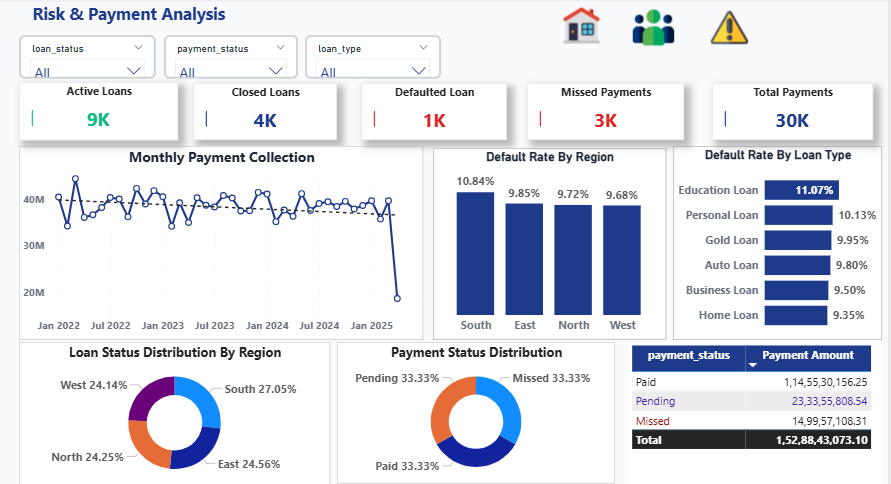

This screenshot's page, from the dashboard's own definition file:
{"tool":"powerbi","page":{"name":"Risk & Payments Analysis","canvas":[1280,720],"ordinal":2},"visuals":[{"type":"textbox","box":[41.8,0,717.1,57.6],"z":0},{"type":"cardVisual","title":"Closed Loans","fields":{"Data":["Temp.Closed Loans"]},"box":[277.9,122.4,207.4,82.1],"z":1000},{"type":"lineChart","title":"Monthly Payment Collection","fields":{"Y":["Sum(payments.payment_amount)"],"Category":["payments.payment_date.Variation.Date Hierarchy.Year","payments.payment_date.Variation.Date Hierarchy.Month"]},"box":[27.4,213.1,581.8,279.4],"z":2000},{"type":"donutChart","title":"Loan Status Distribution By Region","fields":{"Y":["Temp.Default Rate %"],"Category":["branches.region"]},"box":[27.4,495.4,447.8,207.4],"z":3000},{"type":"actionButton","box":[806.4,8.6,79.2,61.9],"z":4000},{"type":"actionButton","box":[907.2,8.6,77.8,67.7],"z":5000},{"type":"actionButton","box":[1019.5,11.5,67.7,61.9],"z":6000},{"type":"cardVisual","title":"Active Loans","fields":{"Data":["Temp.Active Loans"]},"box":[27.4,121,229,83.5],"z":7000},{"type":"cardVisual","title":"Defaulted Loan","fields":{"Data":["Temp.Defaulted Loans"]},"box":[519.8,122.4,210.2,82.1],"z":8000},{"type":"barChart","title":"Default Rate By Loan Type","fields":{"Category":["loan_types.loan_type"],"Y":["Temp.Default Rate %"]},"box":[969.1,213.1,301,279.4],"z":9000},{"type":"slicer","fields":{"Values":["loan_details.loan_status"]},"box":[27.4,53.3,197.3,63.4],"z":10000},{"type":"slicer","fields":{"Values":["payments.payment_status"]},"box":[236.2,53.3,193,63.4],"z":11000},{"type":"slicer","fields":{"Values":["loan_types.loan_type"]},"box":[439.2,53.3,195.8,63.4],"z":12000},{"type":"cardVisual","title":"Missed Payments","fields":{"Data":["Temp.Missed Payments"]},"box":[711.4,231.8,193,82.1],"z":13000},{"type":"donutChart","title":"Payment Status Distribution","fields":{"Category":["payments.payment_status"],"Y":["Temp.Total Customers"]},"box":[485.3,495.4,400.3,204.5],"z":14000},{"type":"columnChart","title":"Default Rate By Region","fields":{"Category":["branches.region"],"Y":["Temp.Default Rate %"]},"box":[623.5,216,335.5,276.5],"z":15000},{"type":"tableEx","fields":{"Values":["payments.payment_status","Sum(payments.payment_amount)"]},"box":[904.3,495.4,365.8,207.4],"z":16000},{"type":"cardVisual","title":"Missed Payments","fields":{"Data":["Temp.Missed Payments"]},"box":[758.9,122.4,226.1,82.1],"z":17000},{"type":"cardVisual","title":"Total Payments","fields":{"Data":["Temp.Total Payments"]},"box":[1025.3,122.4,231.8,82.1],"z":18000}]}

Visuals, with their boxes on the page's 1280x720 design canvas (x1, y1, x2, y2). These are canvas units, not pixel positions in the 891x484 screenshot, which may show the page scaled, cropped or inside an application window:
textbox: region(42, 0, 759, 58)
"Closed Loans" cardVisual: region(278, 122, 485, 204)
"Monthly Payment Collection" lineChart: region(27, 213, 609, 492)
"Loan Status Distribution By Region" donutChart: region(27, 495, 475, 703)
actionButton: region(806, 9, 886, 70)
actionButton: region(907, 9, 985, 76)
actionButton: region(1020, 12, 1087, 73)
"Active Loans" cardVisual: region(27, 121, 256, 204)
"Defaulted Loan" cardVisual: region(520, 122, 730, 204)
"Default Rate By Loan Type" barChart: region(969, 213, 1270, 492)
slicer - loan_details.loan_status: region(27, 53, 225, 117)
slicer - payments.payment_status: region(236, 53, 429, 117)
slicer - loan_types.loan_type: region(439, 53, 635, 117)
"Missed Payments" cardVisual: region(711, 232, 904, 314)
"Payment Status Distribution" donutChart: region(485, 495, 886, 700)
"Default Rate By Region" columnChart: region(624, 216, 959, 492)
tableEx - payments.payment_status x Sum(payments.payment_amount): region(904, 495, 1270, 703)
"Missed Payments" cardVisual: region(759, 122, 985, 204)
"Total Payments" cardVisual: region(1025, 122, 1257, 204)
